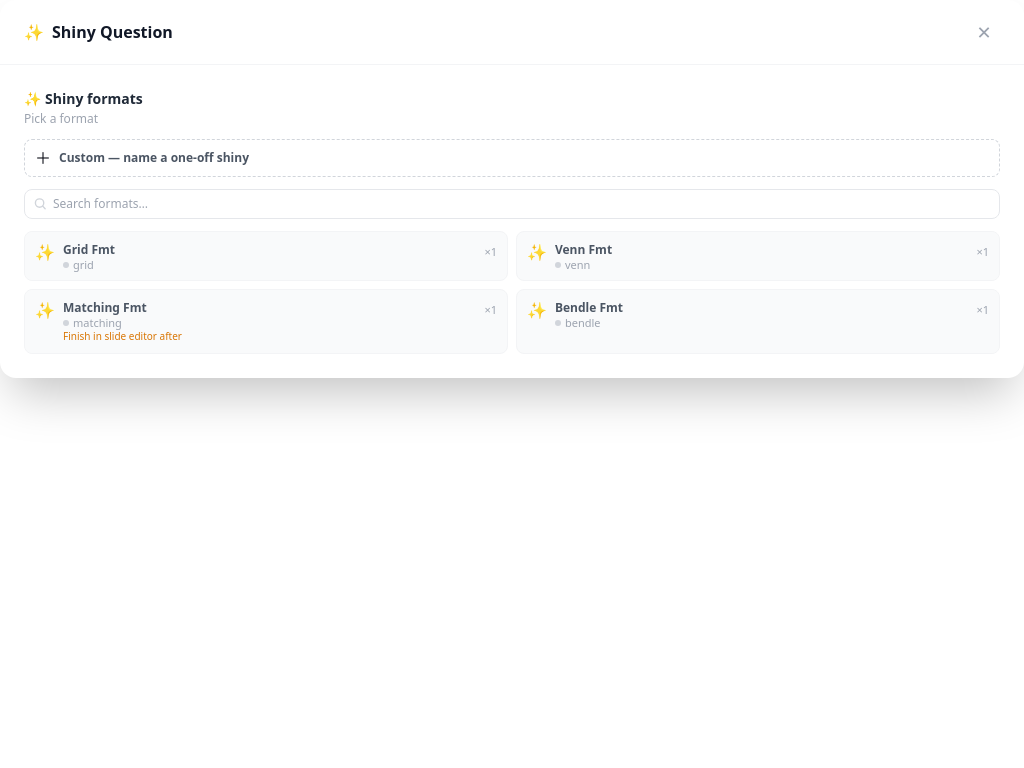
Test case: AddSlideWizard shiny details — registry wiring › renders grid's own Columns/Rows controls and no venn controls
The width and height of the screenshot is (1024, 768).
What coordinates should you click on to do the following:
click the button "✨ Grid Fmt grid ×1"
I would click on:
 (89, 250)
Its box is [24,231,508,281].
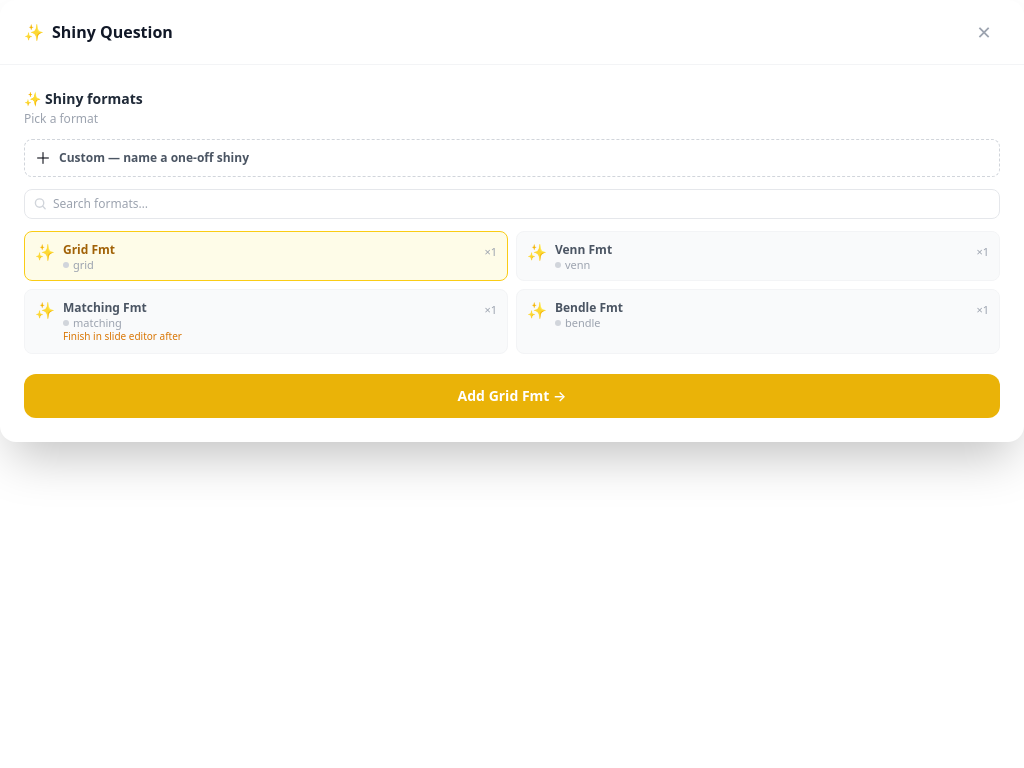
What coordinates should you click on to do the following:
click the button "Add Grid Fmt →"
I would click on:
 (512, 396)
Its box is [24,374,1000,418].
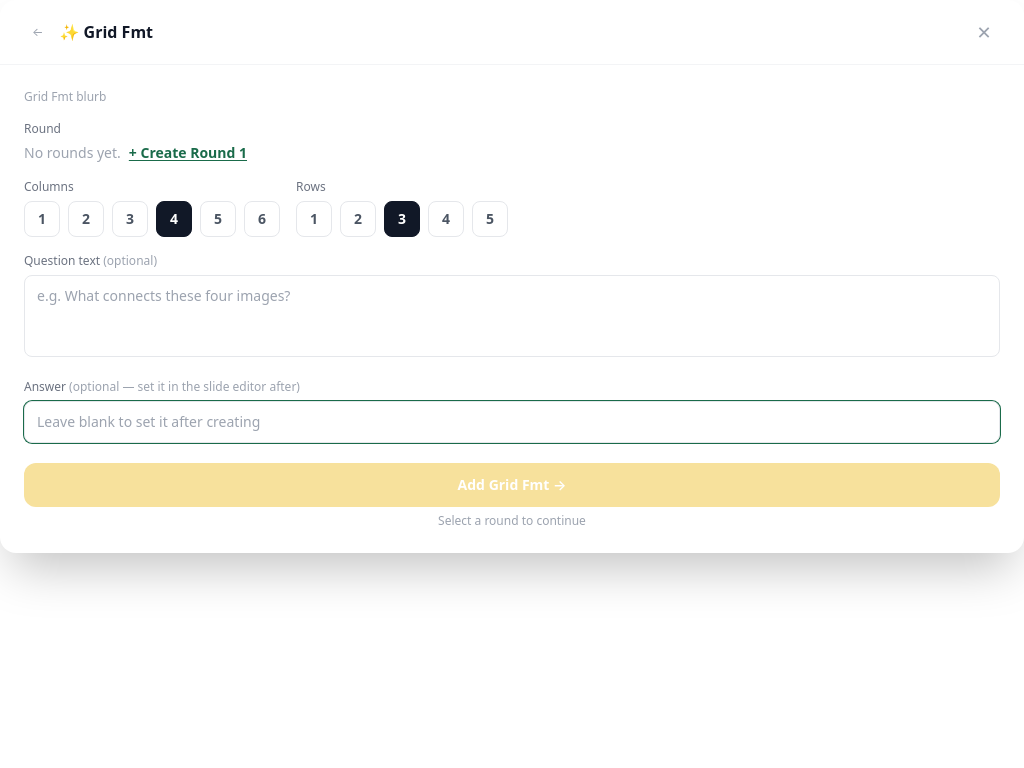
Now the text "Columns" is shown, box [24,178,74,195]
Now the text "Rows" is shown, box [296,178,326,195]
